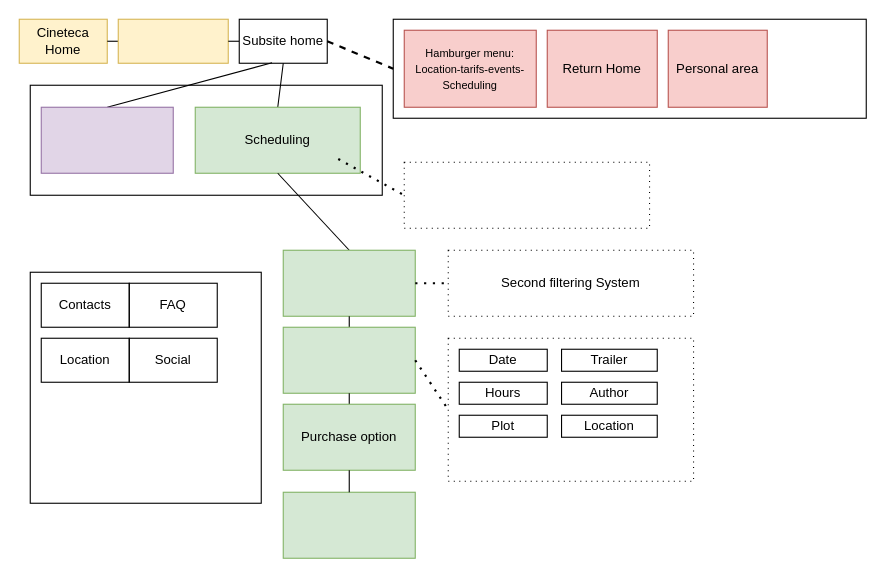
Some shapes in this 886 by 578 pixel diagram are drawn without their labels. Here are the shapes that lost their labels. From the top down, the box of each, then its label:
(117, 18, 228, 63): In sala/al cinema
(392, 18, 866, 118): Utility menu (always available)
(40, 106, 173, 173): Cinema Lumiere info
(29, 84, 382, 195): Global Navigation
(403, 161, 650, 228): First filtering system
(282, 249, 415, 316): Film List
(282, 326, 415, 393): Film record
(29, 271, 261, 503): Footer Navigation
(282, 491, 415, 558): Ticket Data
